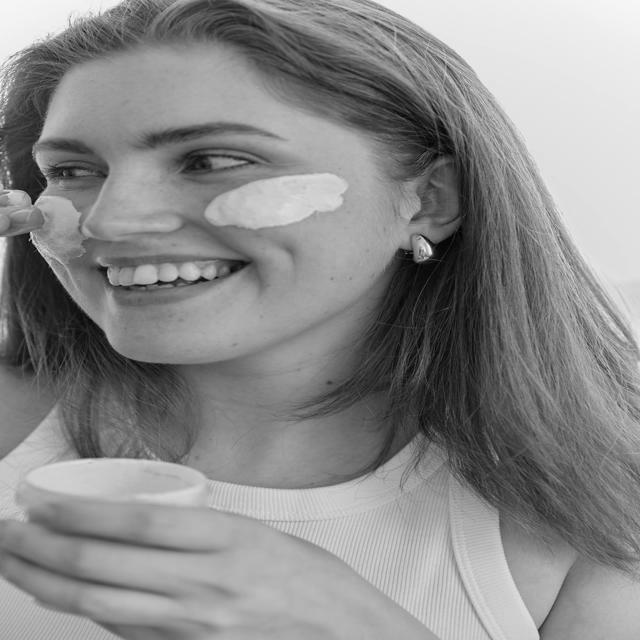Happiness: (26, 50, 376, 365)
